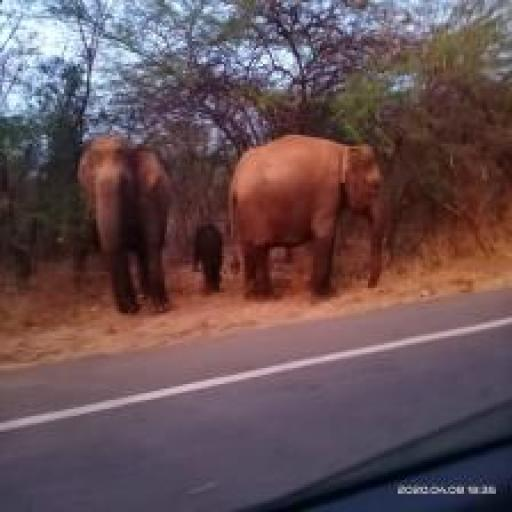Elephant: (229, 135, 385, 304), (78, 135, 177, 316)
